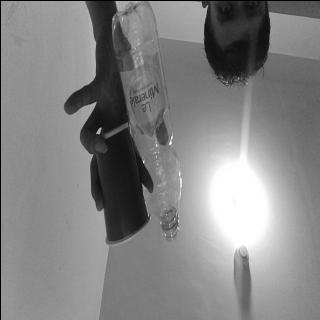objects: (94, 120, 148, 250)
plastic_bottles: (112, 1, 180, 242)
